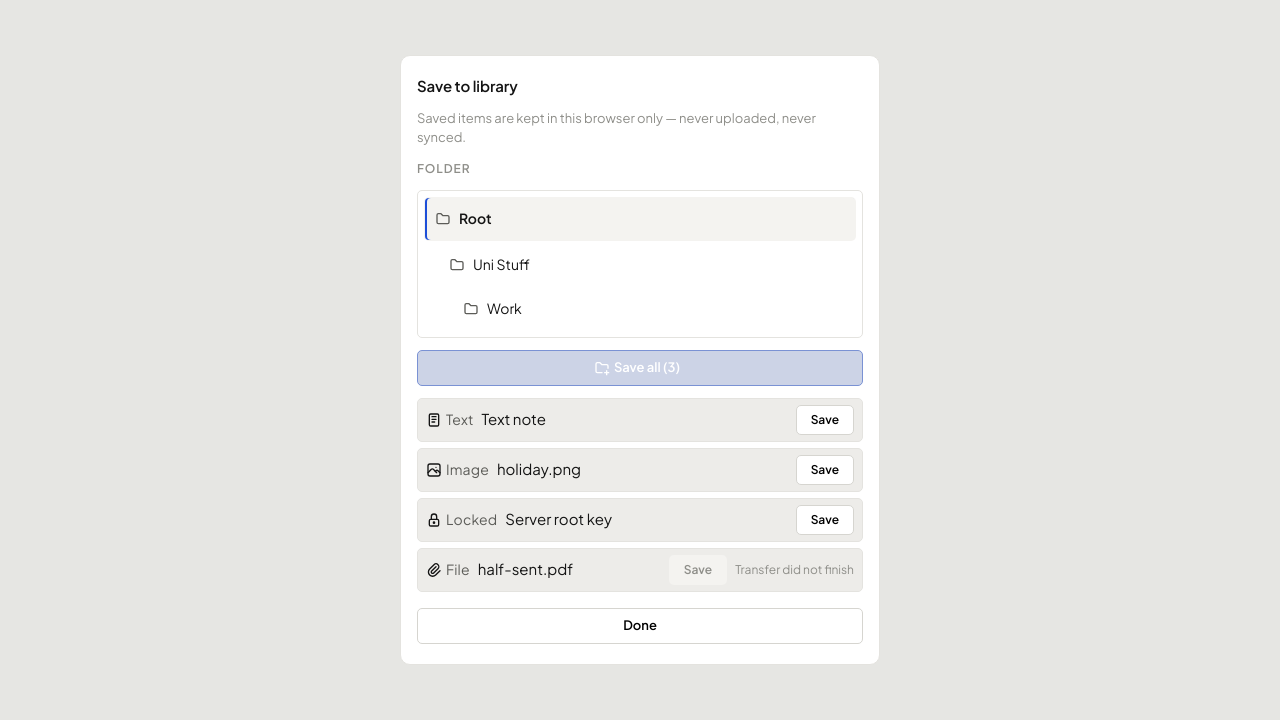
Test: SaveToLibraryModal › reports a failed save instead of pretending the item was kept
Click the button with class "library-modal__save" in the row of "Text note". click: (825, 420)
box: [796, 405, 854, 435]
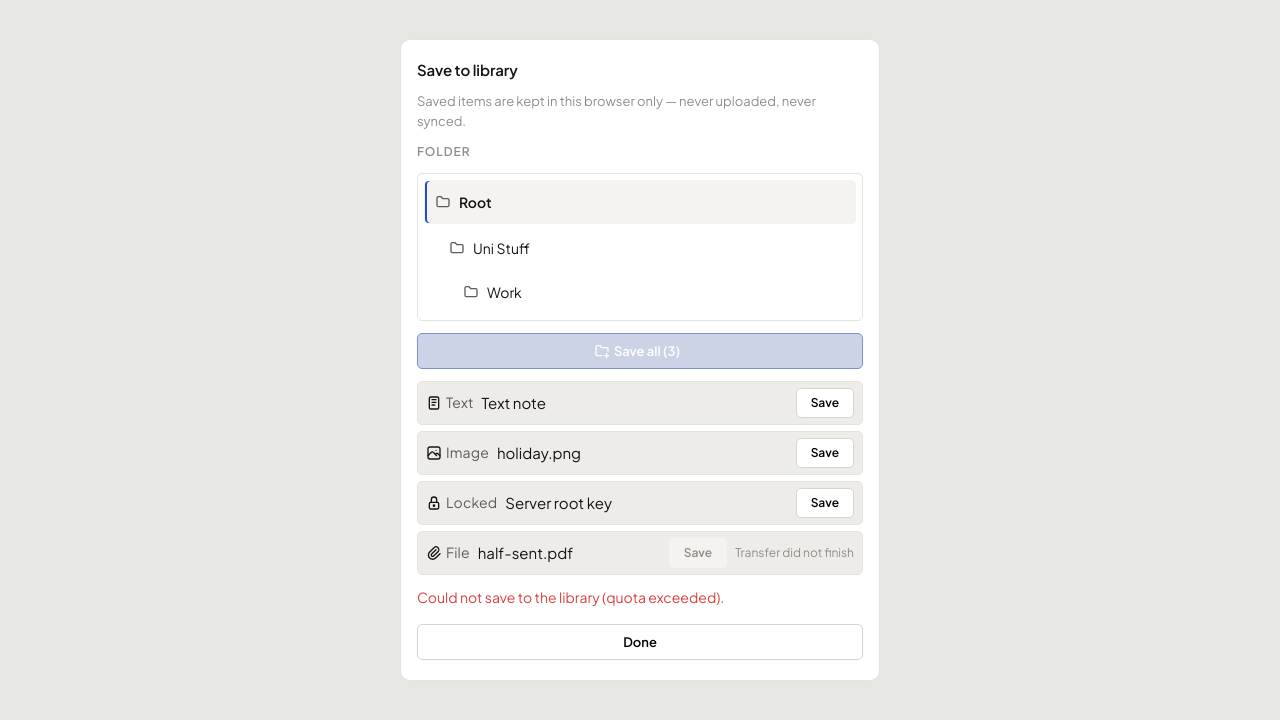
Expected: the button with class "library-modal__save-all" is enabled, [417, 333, 863, 369]
Expected: the message with class "library-modal__error" reads "Could not save to the library (quota exceeded).", [417, 588, 724, 606]
